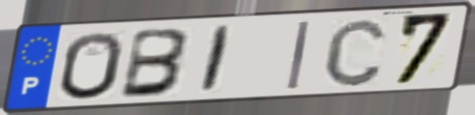7: (394, 11, 455, 88)
B: (117, 27, 194, 101)
C: (320, 15, 390, 89)
I: (197, 23, 236, 96), (284, 19, 313, 92)
O: (57, 30, 126, 102)
